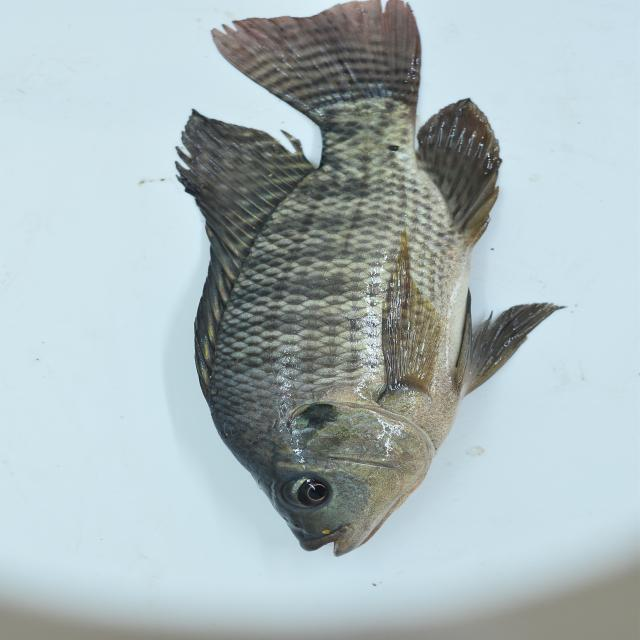Healthy Fish: (169, 0, 567, 562)
